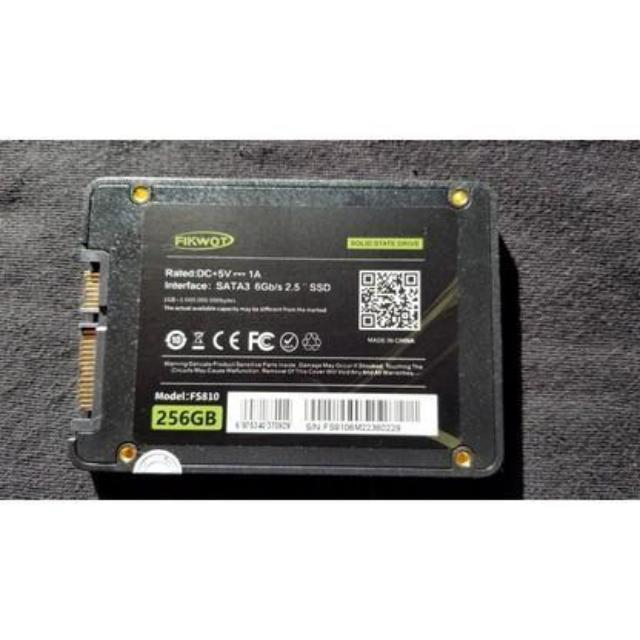DISK: (74, 178, 506, 488)
